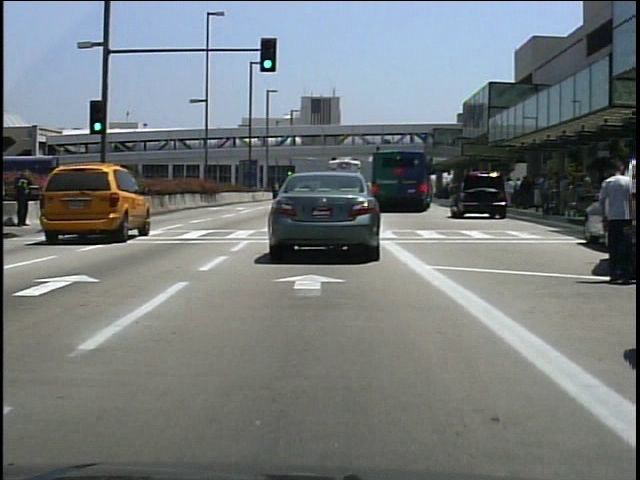person: (594, 153, 631, 291), (14, 164, 37, 228)
